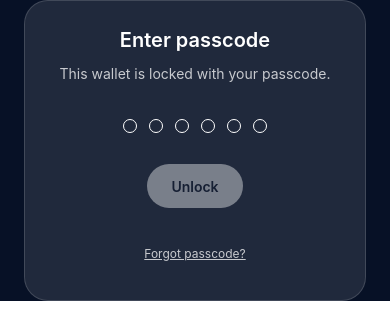
it: lock screen (unlock flow) › Unlock stays disabled until 6 digits are entered
The image size is (390, 318).
Check: the button "Unlock" is disabled, box x1=147 y1=164 x2=243 y2=208
Replace the text in the password field named "Passcode" with "39578" at (195, 164), box x1=123 y1=119 x2=267 y2=208
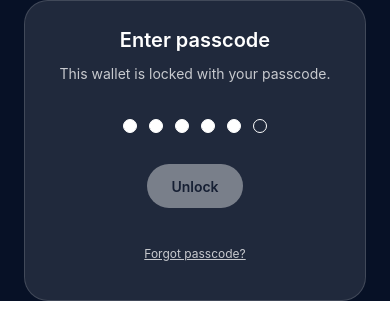
Check: the button "Unlock" is disabled, box x1=147 y1=164 x2=243 y2=208
Replace the text in the password field named "Passcode" with "395784" at (195, 164), box x1=123 y1=119 x2=267 y2=208
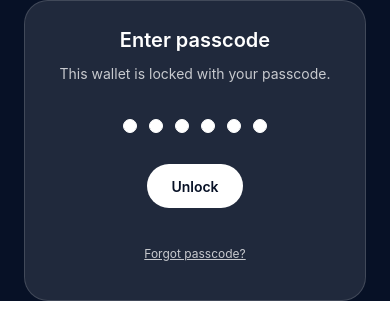
Check: the button "Unlock" is enabled, box x1=147 y1=164 x2=243 y2=208
